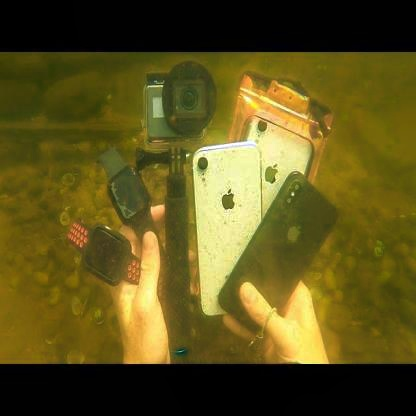cellphone: (218, 170, 340, 337), (235, 113, 314, 319), (189, 139, 269, 319)
electronics: (100, 145, 176, 290), (66, 216, 163, 306), (142, 60, 216, 146)
